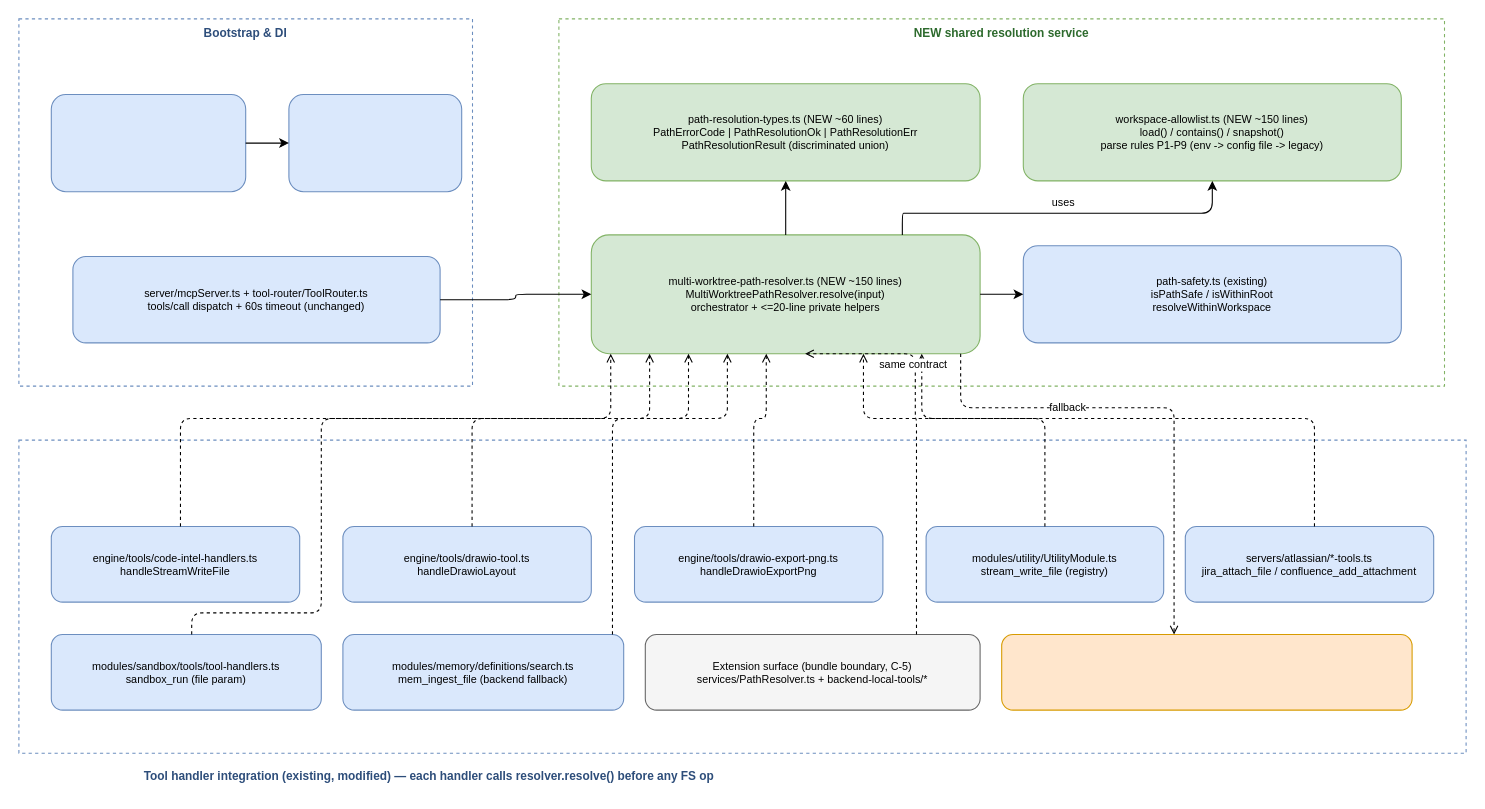
Image size: 1485x809. Some labels were removed from this diagram. Each missing label, with the centre of its shape:
"backend/src/di/Container.ts registerInstance (singletons)" belongs at (x=375, y=142).
"backend/src/index.ts load allowlist + log (BR-19)" belongs at (x=148, y=142).
"Legacy single-root mode empty allowlist (BR-16) - byte-identical behavior" belongs at (x=1206, y=671).
